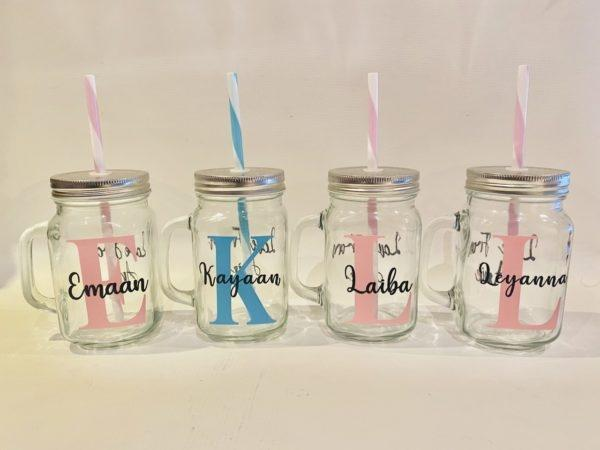glass-mug: (419, 160, 576, 354), (15, 164, 159, 354), (156, 161, 292, 347), (287, 161, 424, 344)
